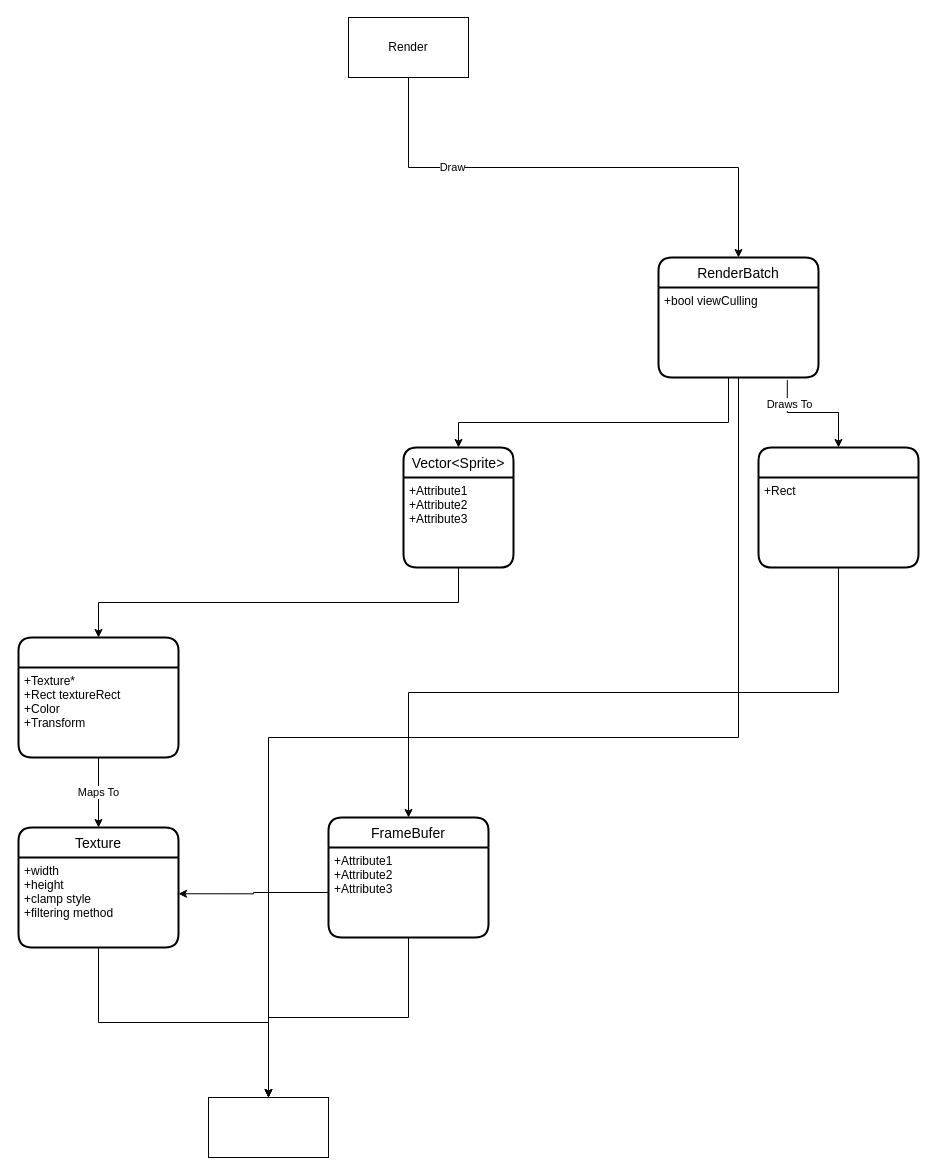
Some shapes in this 936 by 1175 pixel diagram are drawn without their labels. The box of each missing label's shape, as (x1, y1, x2, y2) in pixels:
OpenGL Backend: (208, 1096, 328, 1158)
Sprite: (17, 636, 179, 758)
View: (757, 446, 919, 568)
